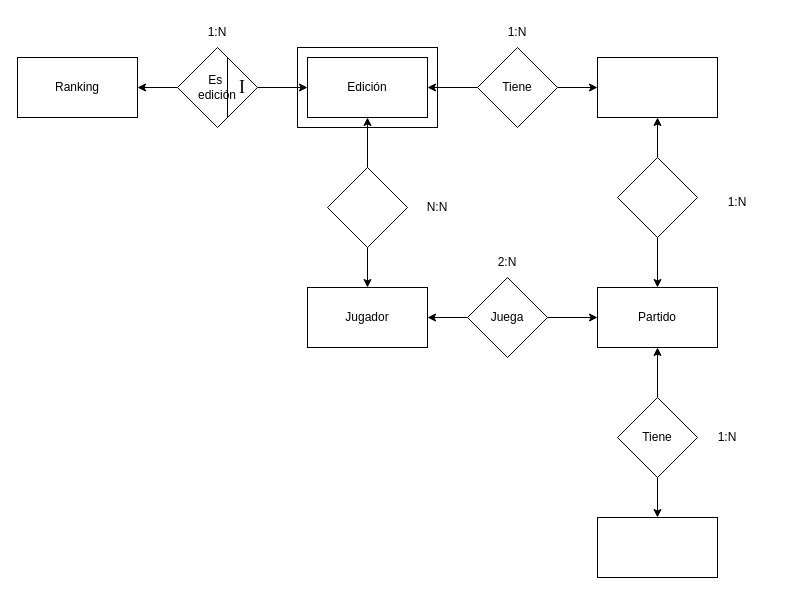
Image size: 785x595. Some labels were removed from this diagram. The shapes that lost their labels are listed below. From the top down, each one's centre as x and y in pixels, then its label:
At point (657, 87): "Jornada".
At point (367, 207): "Participa".
At point (657, 197): "Pertenece".
At point (657, 547): "Set".
